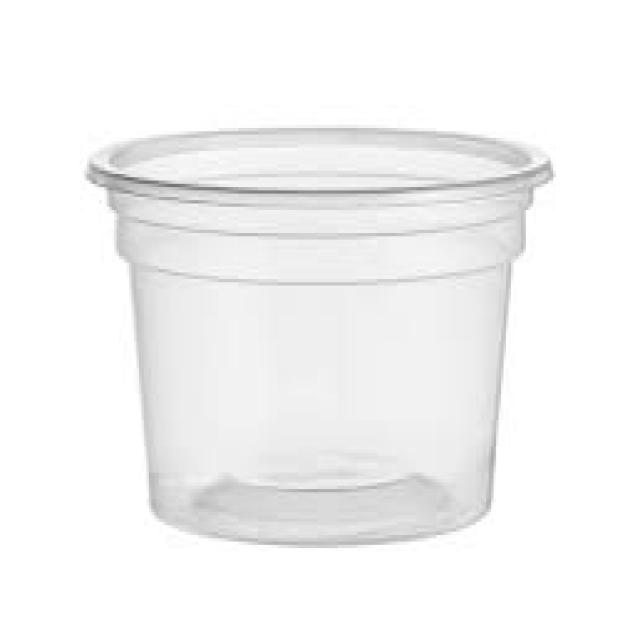disposable: (77, 87, 575, 566)
